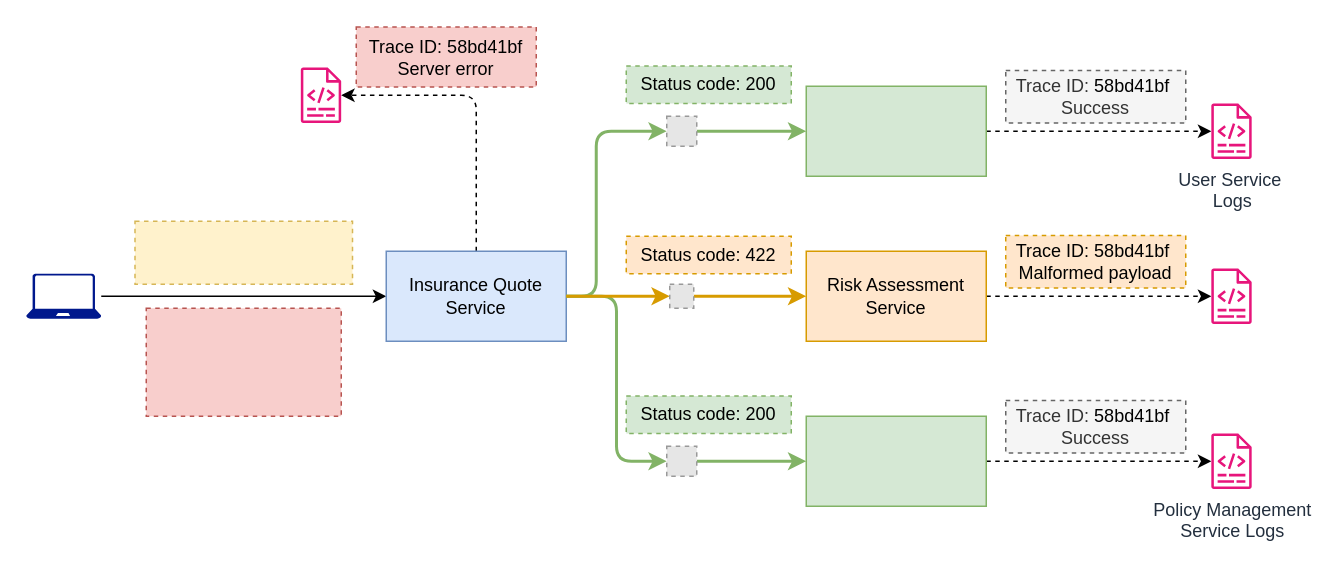
Some shapes in this 1337 by 569 pixel diagram are drawn without their labels. Grey dashed boxes stand in for pictures. Each missing label, with the box of its shape:
Insurance Quote Service logs: (300, 67, 340, 122)
Policy Management Service: (805, 415, 986, 506)
POST /quotes {malformed postal code}: (134, 220, 352, 284)
Risk Assessment Service Logs: (1210, 268, 1251, 323)
Status code: 500 {"error": "Unable to process your request"}: (145, 307, 341, 416)
User Service: (805, 85, 986, 176)
